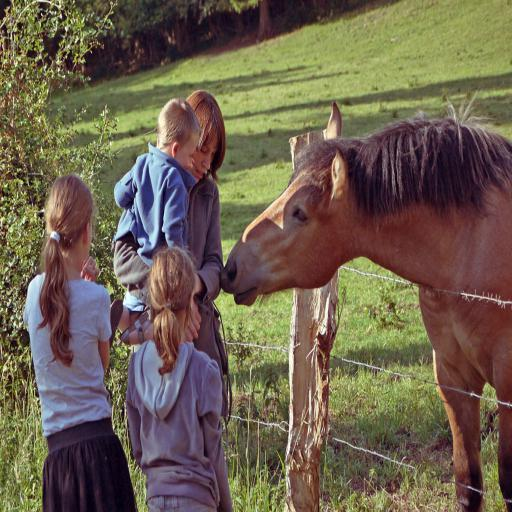horse: (218, 90, 512, 512)
